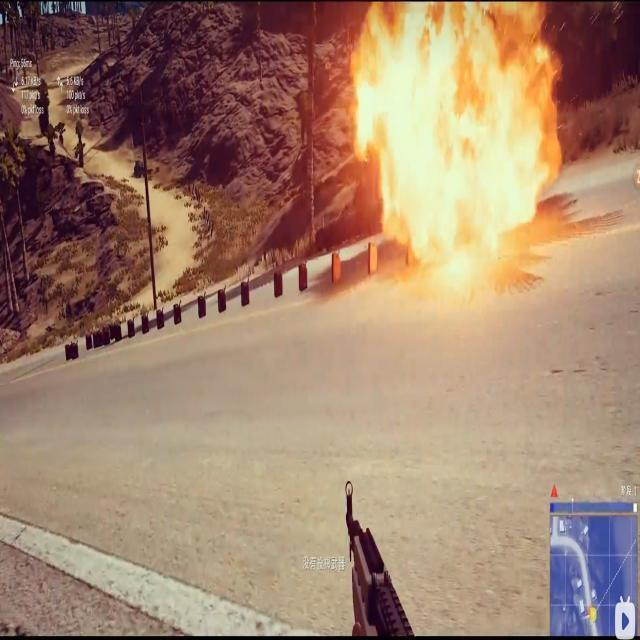fire: (349, 0, 566, 300)
